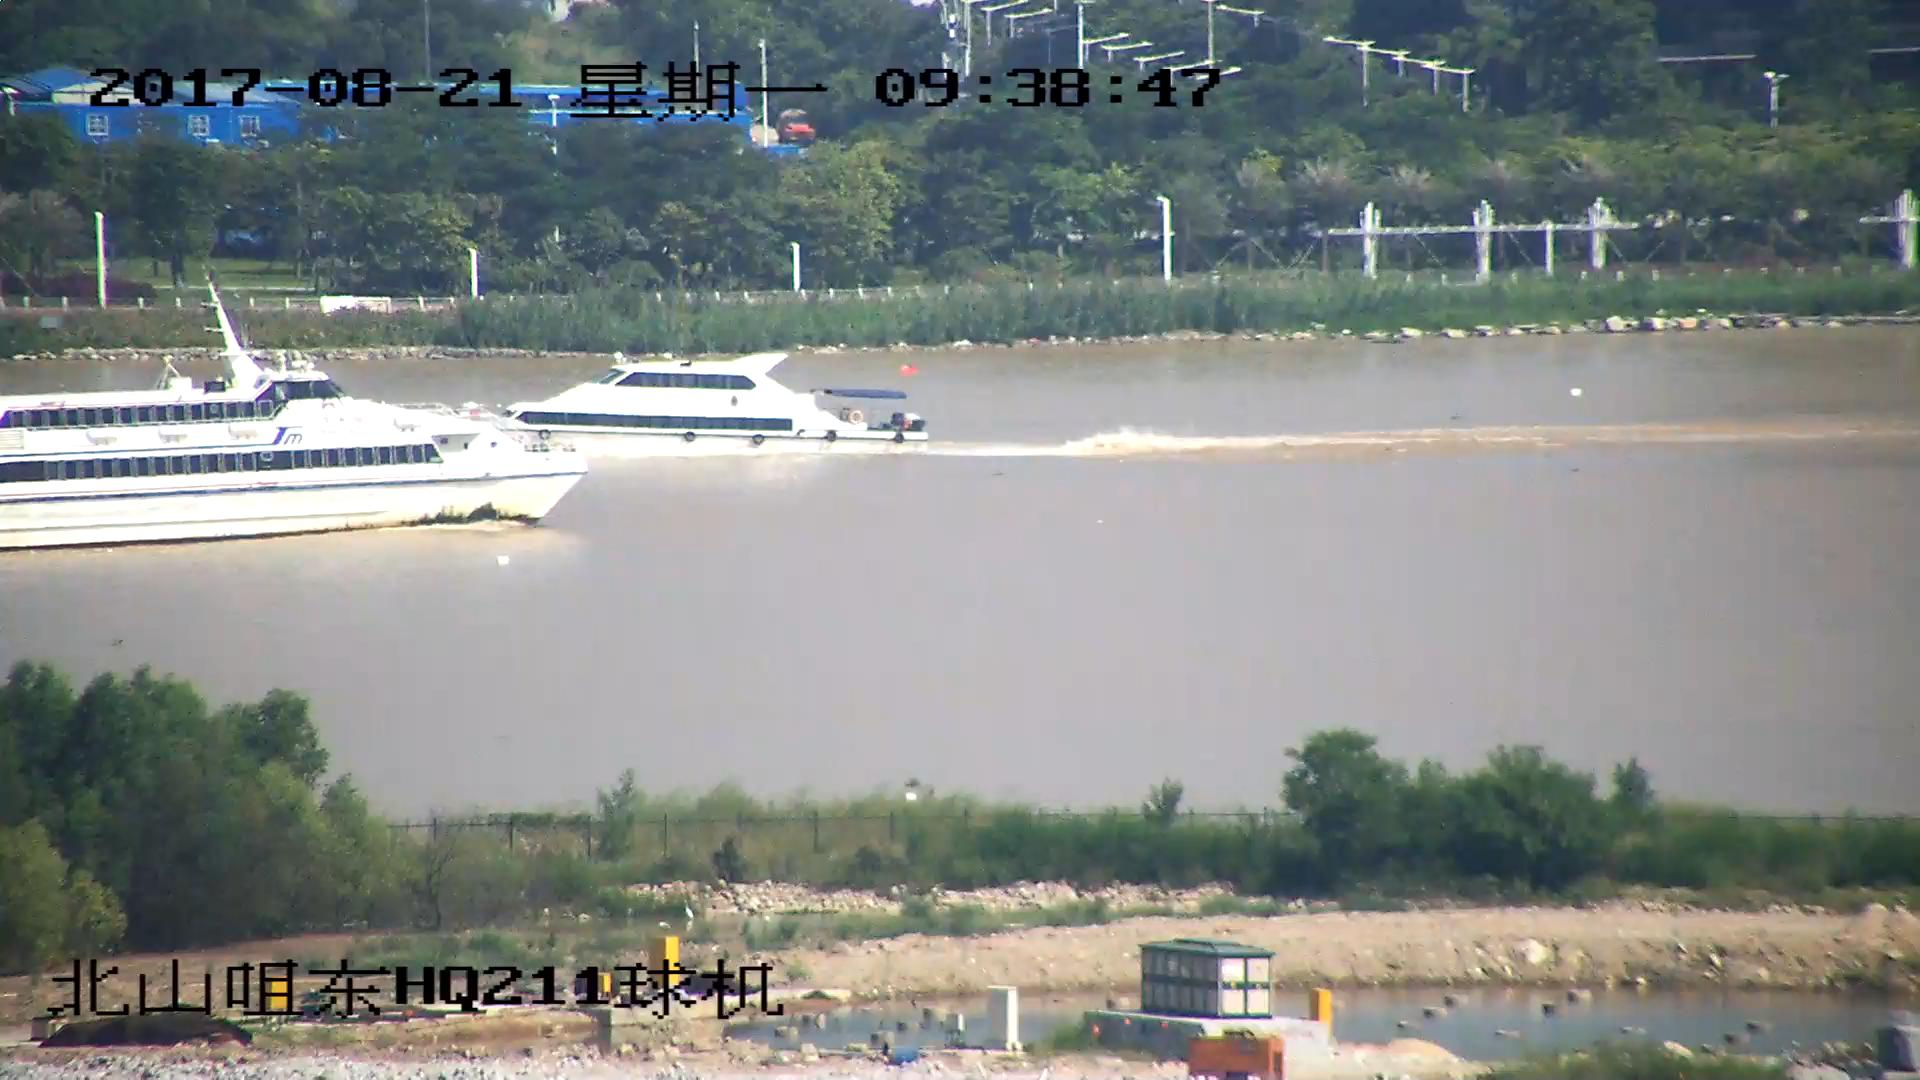passenger ship: (1, 277, 584, 553), (432, 351, 930, 457)
